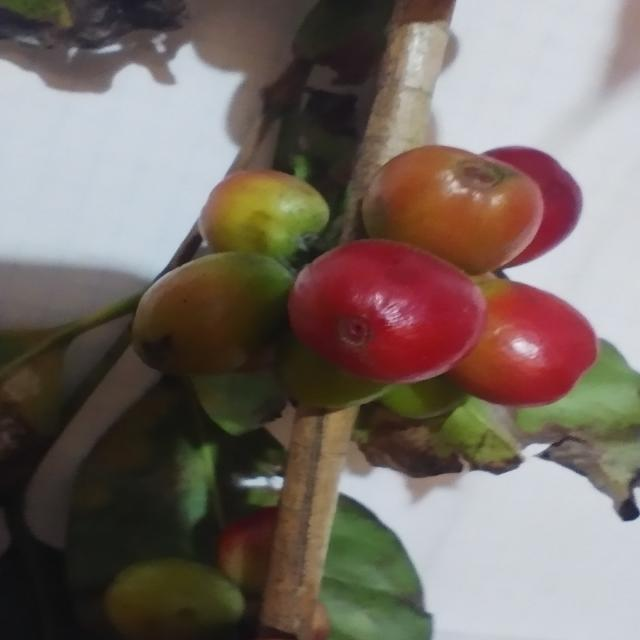Infectado: (131, 252, 294, 381)
Sano: (287, 240, 487, 388), (370, 146, 546, 279), (441, 274, 601, 410)
